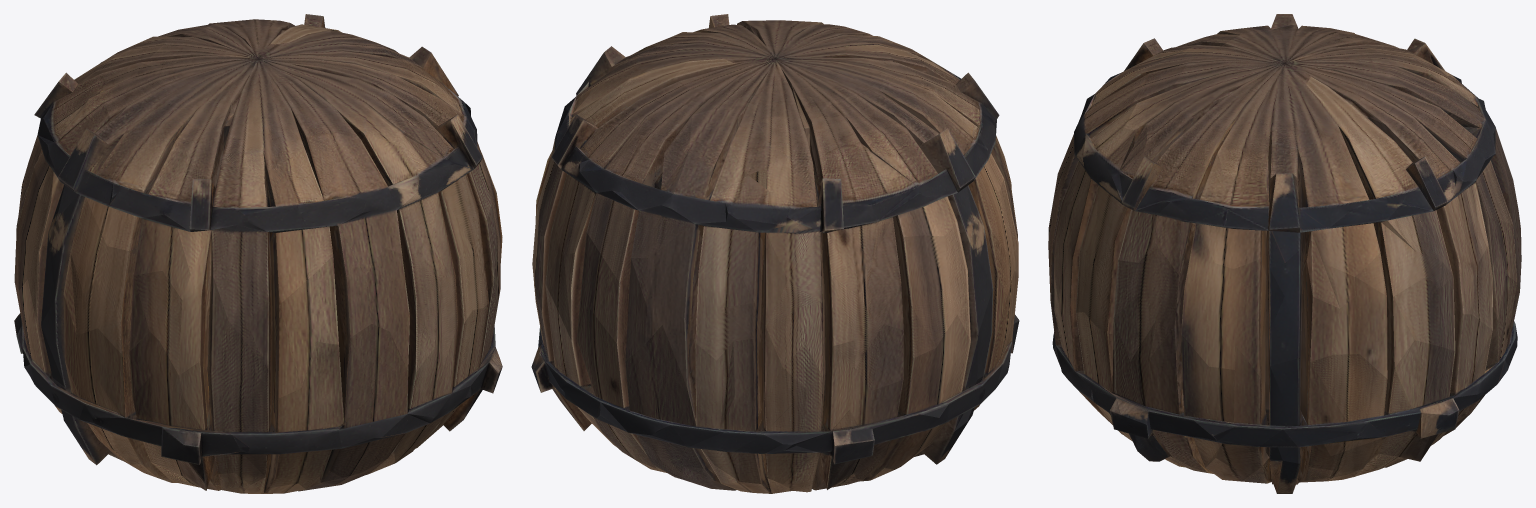
File: a-wooden-barrel-with-iron-hoops.glb
3 views of the same model, side by side, from view 1: azimuth 30°, elevation 25°; view 2: azimuth 150°, elevation 25°; view 3: azimuth 270°, elevation 25° (orthographic). The views are drawn at different scales.
Size of the model in its own units: 1.88 by 1.69 by 1.89.
1 material, 1 textured.
